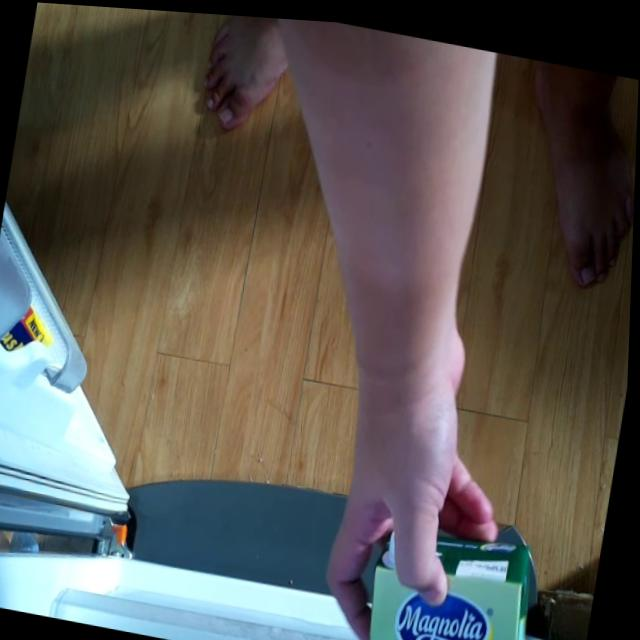milk: (357, 512, 552, 640)
